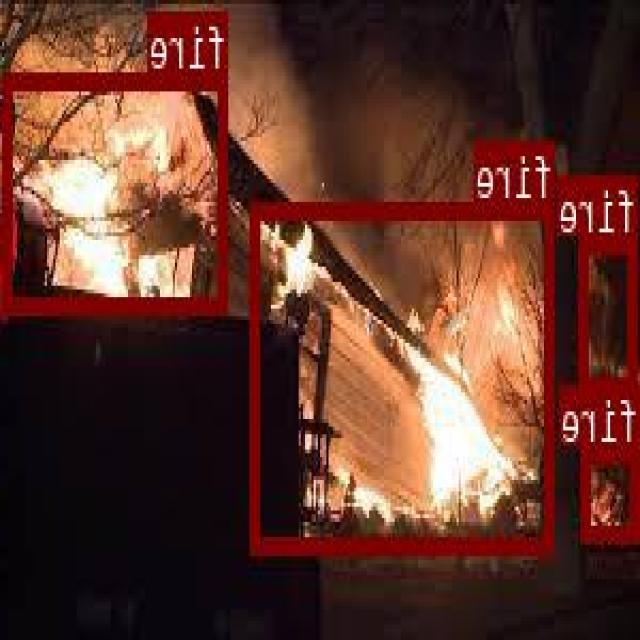fire: (254, 201, 556, 550), (6, 69, 229, 309), (581, 233, 639, 392), (582, 446, 640, 537)
